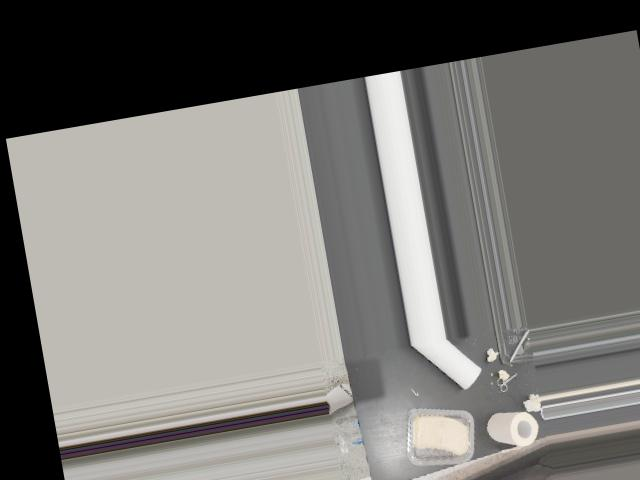cheese: (399, 401, 479, 467)
